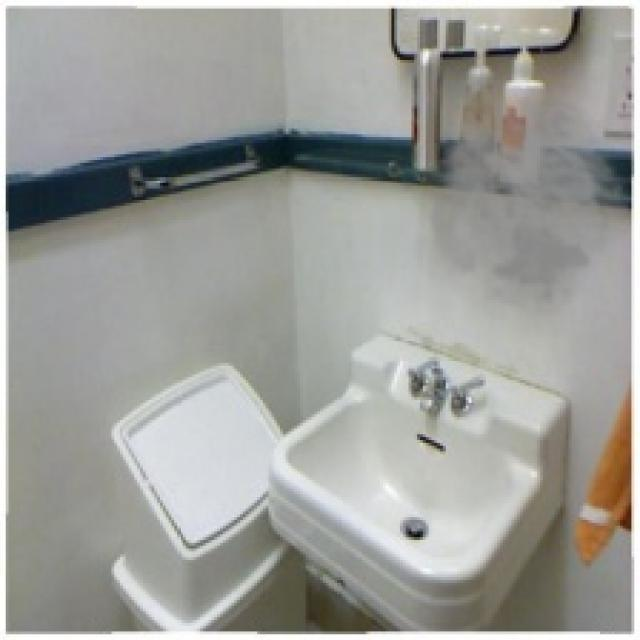Smoke: (399, 86, 632, 337)
